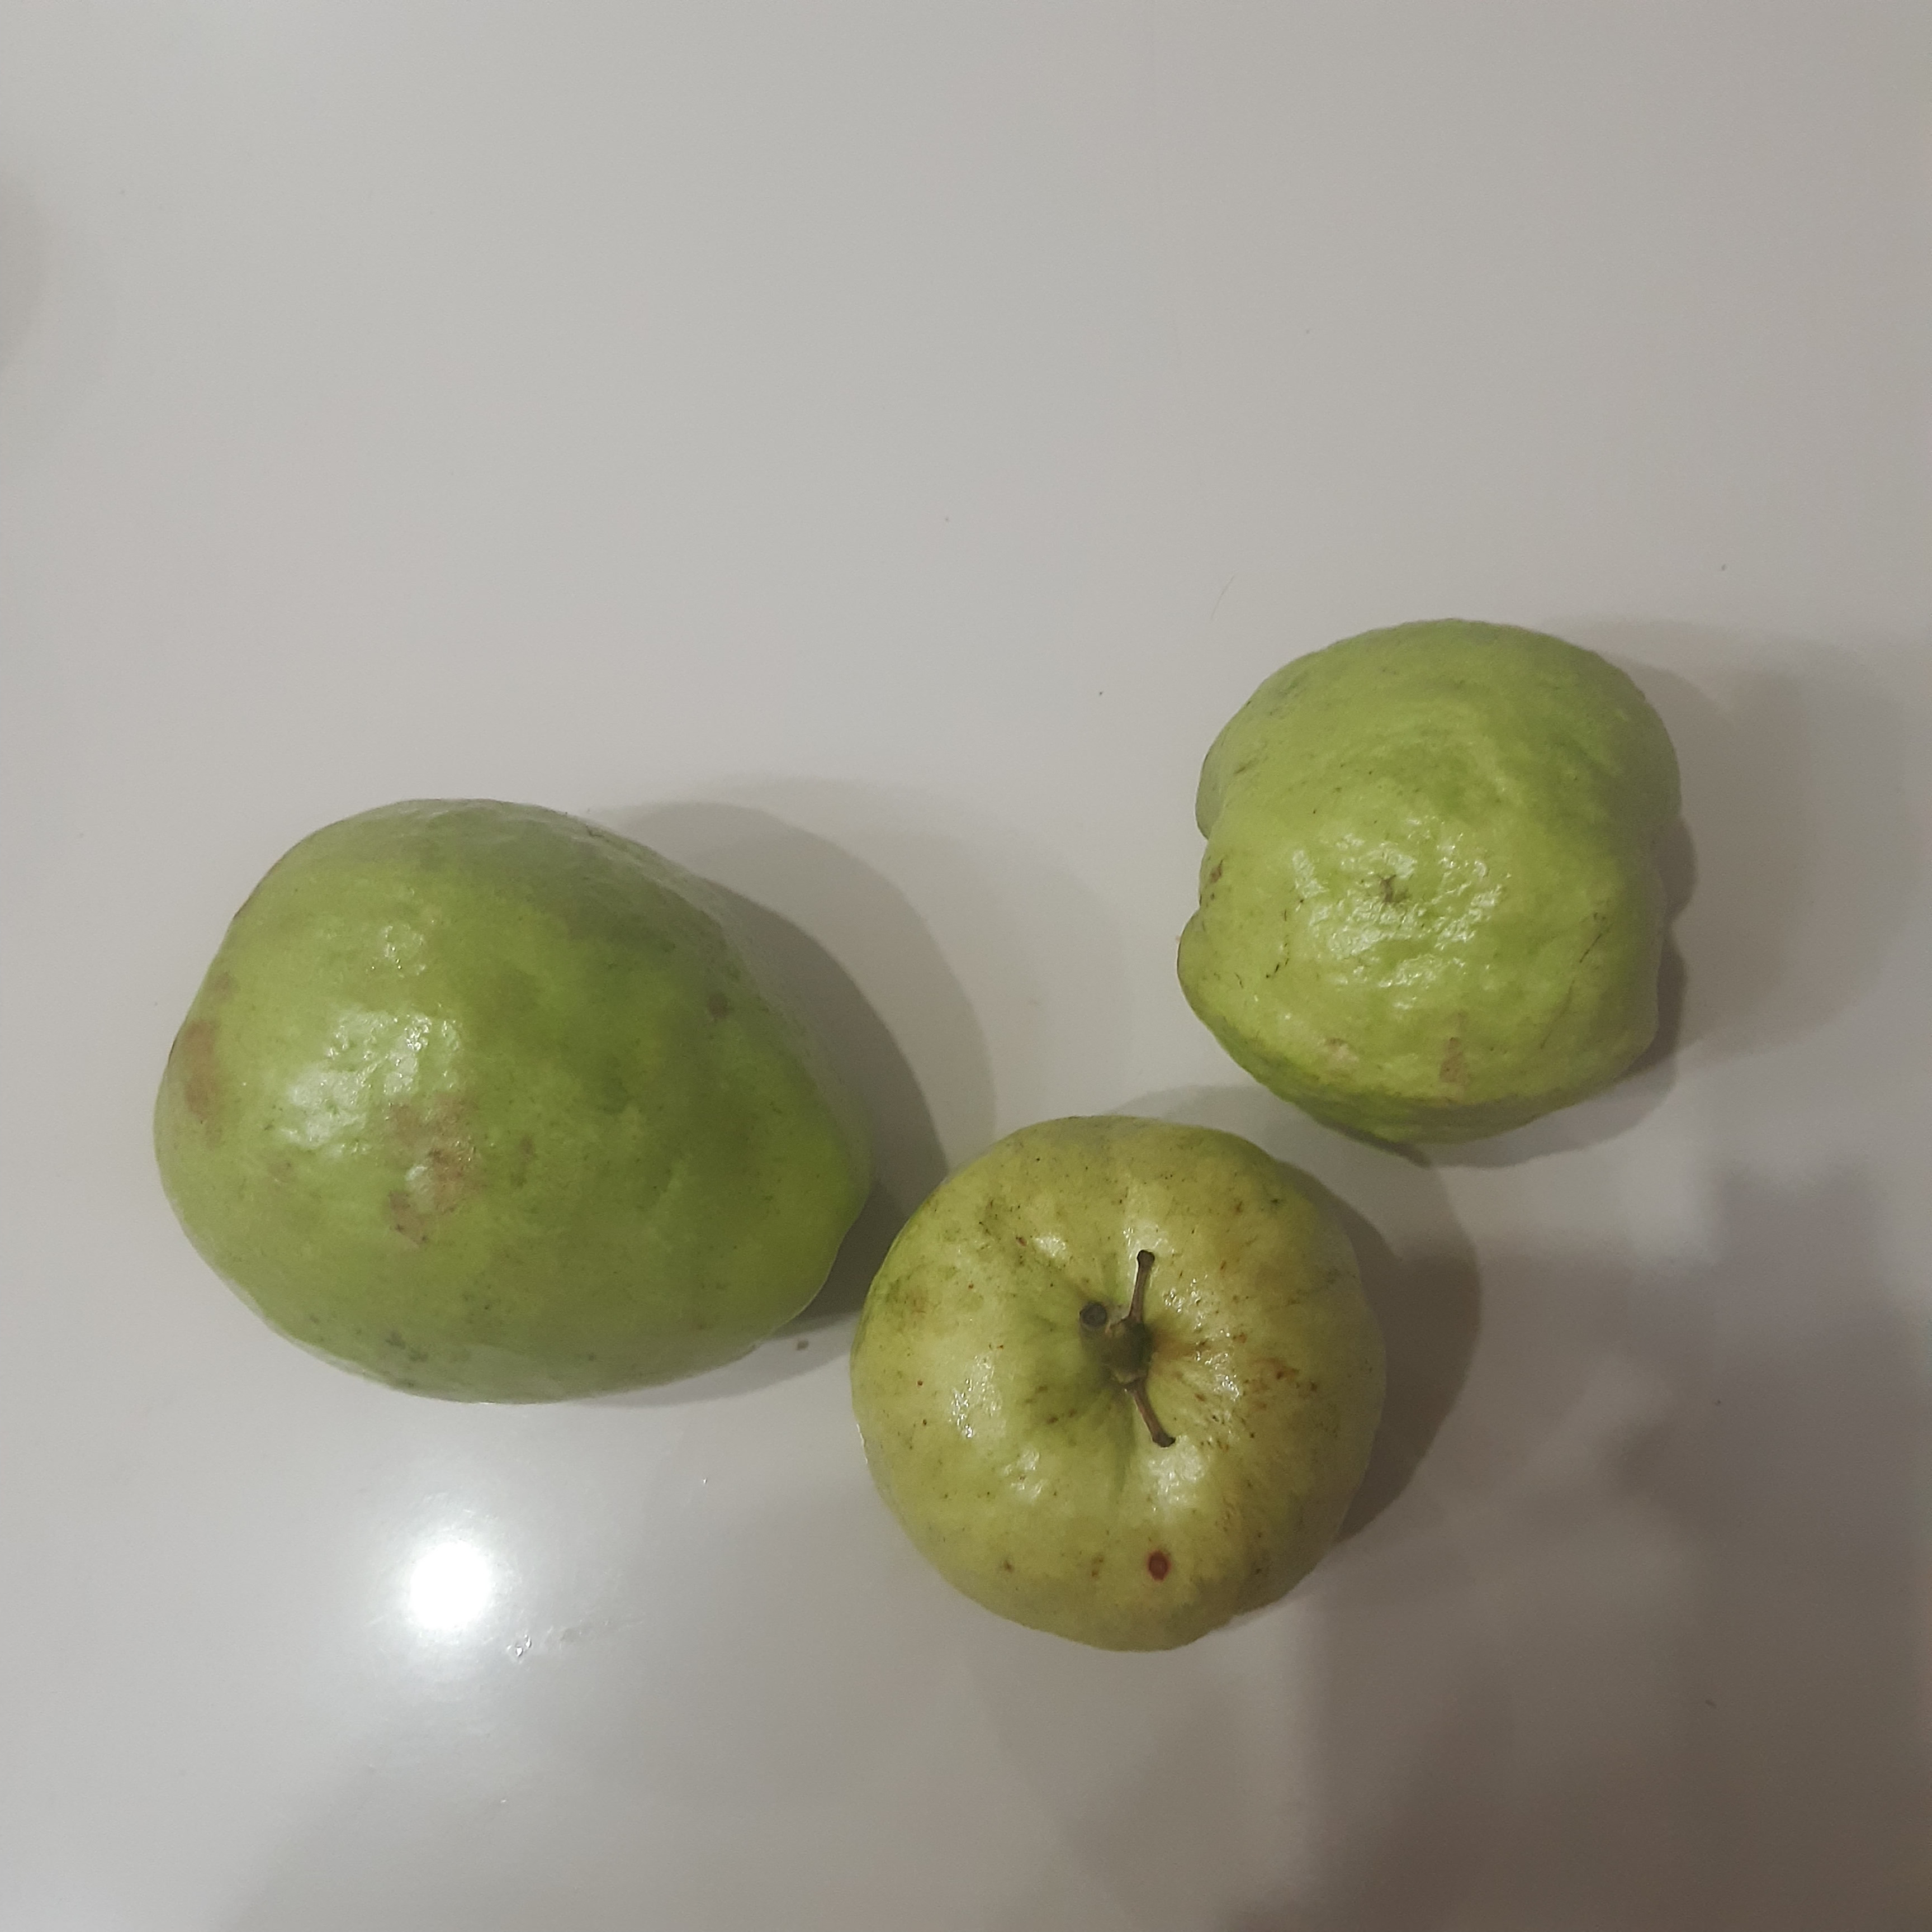Oi: (150, 797, 865, 1407), (854, 1115, 1395, 1658), (1176, 623, 1674, 1143)
